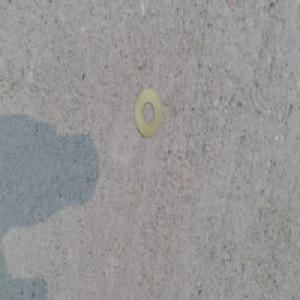Washer: (132, 90, 161, 144)
